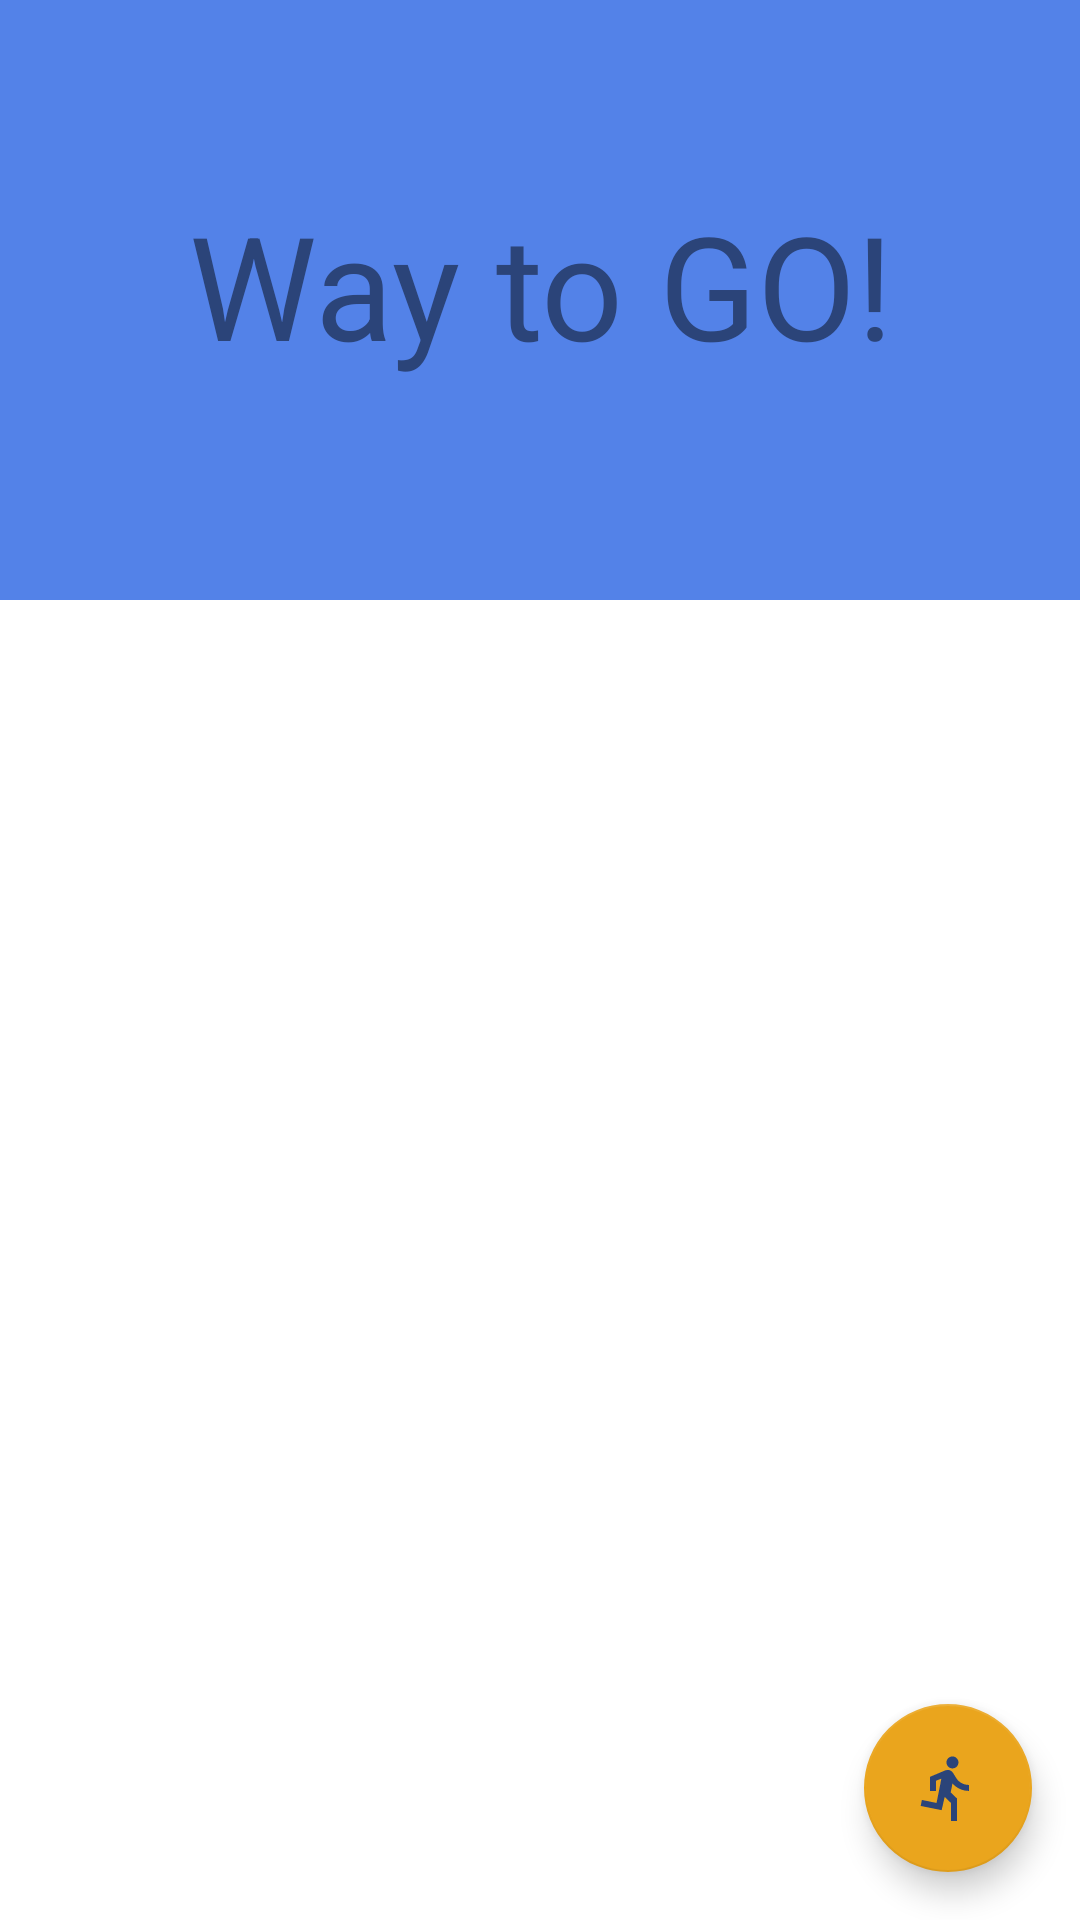

Locate icon controls on the screen. Image size 1080×1920, boxes as bbox=(x1, y1, x2, y2).
run: bbox=(864, 1704, 1032, 1872)
